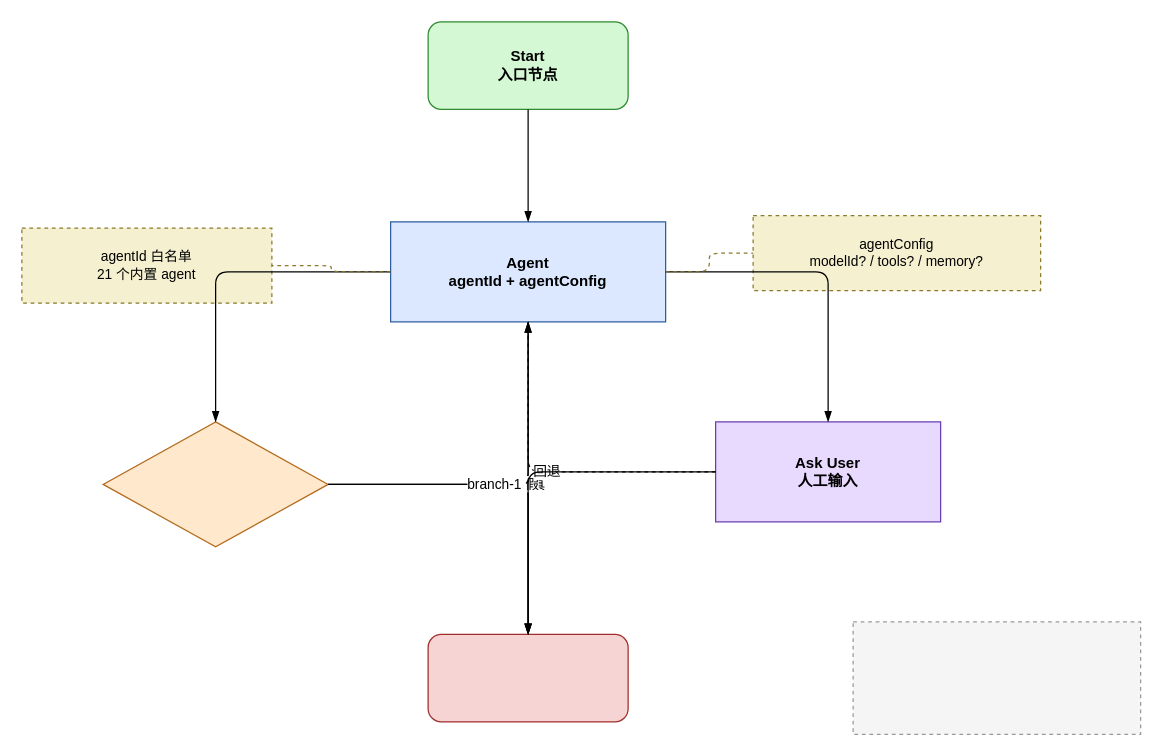
This 1163x756 diagram has some shape labels left out. The centre of each missing label's shape, as x and y in pixels:
Branch 条件分支: point 215,484
End 终止节点: point 527,677
图例 Start / End 唯一端点 Branch 输出 branch-0、branch-1 两路 Agent 可回环、Ask User 可回退: point 996,677
